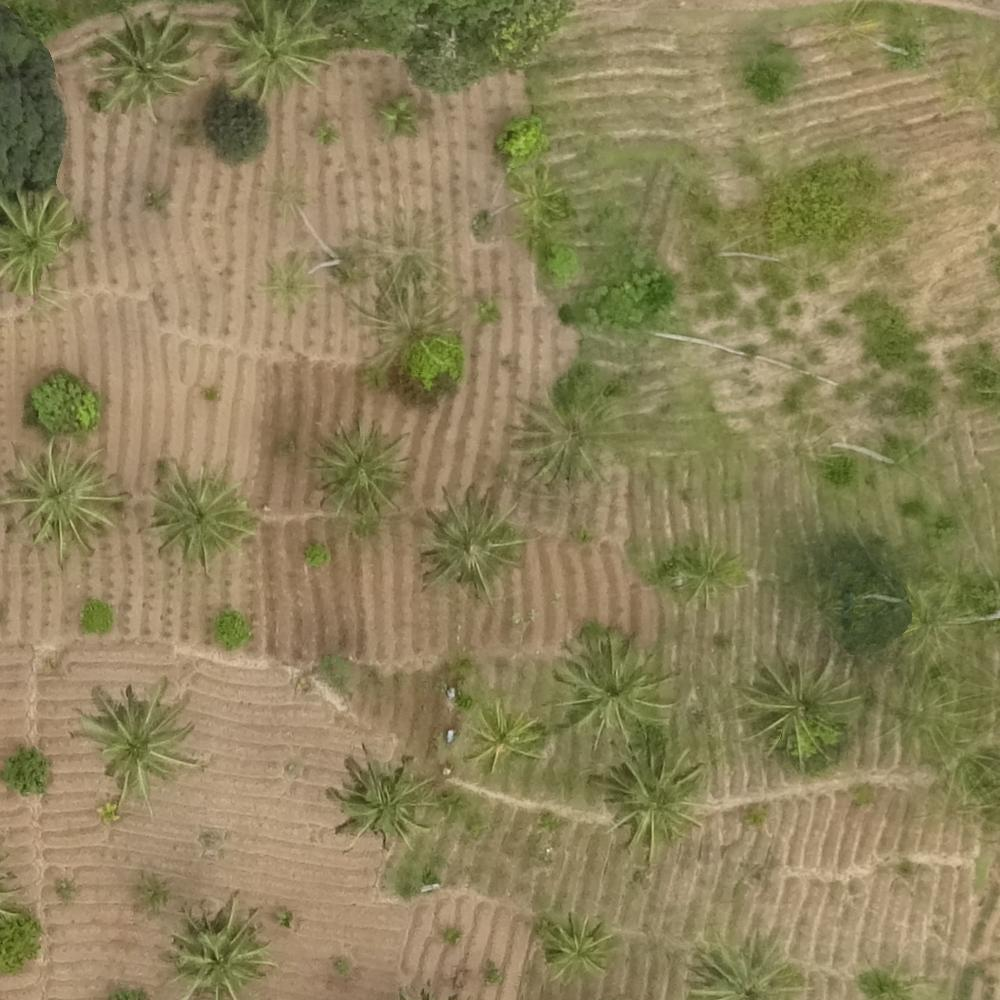Palm: (1, 438, 116, 556), (77, 688, 190, 807), (595, 736, 704, 855), (743, 650, 862, 758), (557, 632, 672, 743), (145, 462, 258, 569), (422, 489, 528, 599), (216, 1, 334, 99), (86, 8, 198, 110), (330, 750, 435, 851), (168, 900, 275, 996), (512, 394, 615, 491), (1, 186, 82, 293), (311, 422, 403, 514), (465, 698, 548, 773), (670, 538, 746, 610), (544, 908, 612, 978)
